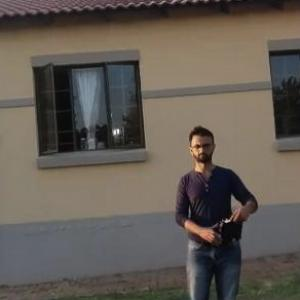follow: (170, 115, 266, 299)
